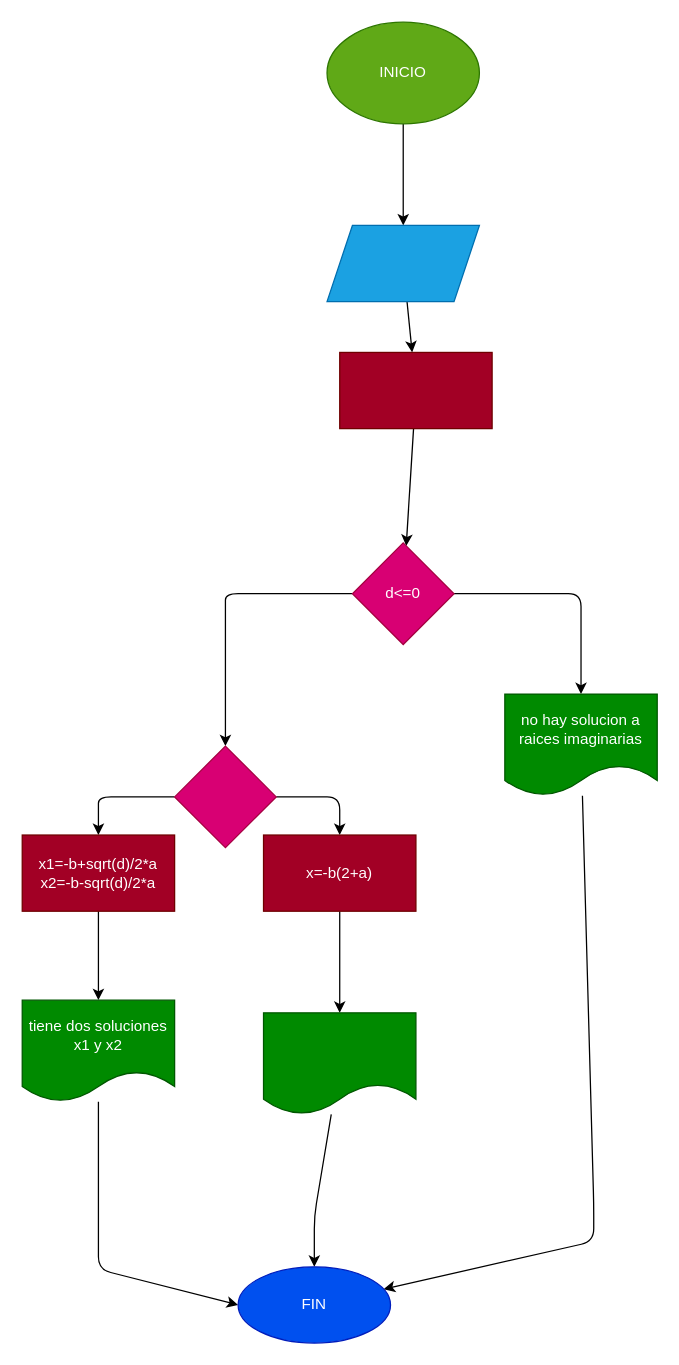
Some shapes in this 679 by 1365 pixel diagram are drawn without their labels. The centre of each missing label's shape, as x and y in pixels:
a,b,c: (x=402, y=263)
d= b^2-(4*a*c): (x=415, y=390)
d==0: (x=224, y=796)
tiene solo una solucion: (x=339, y=1063)
